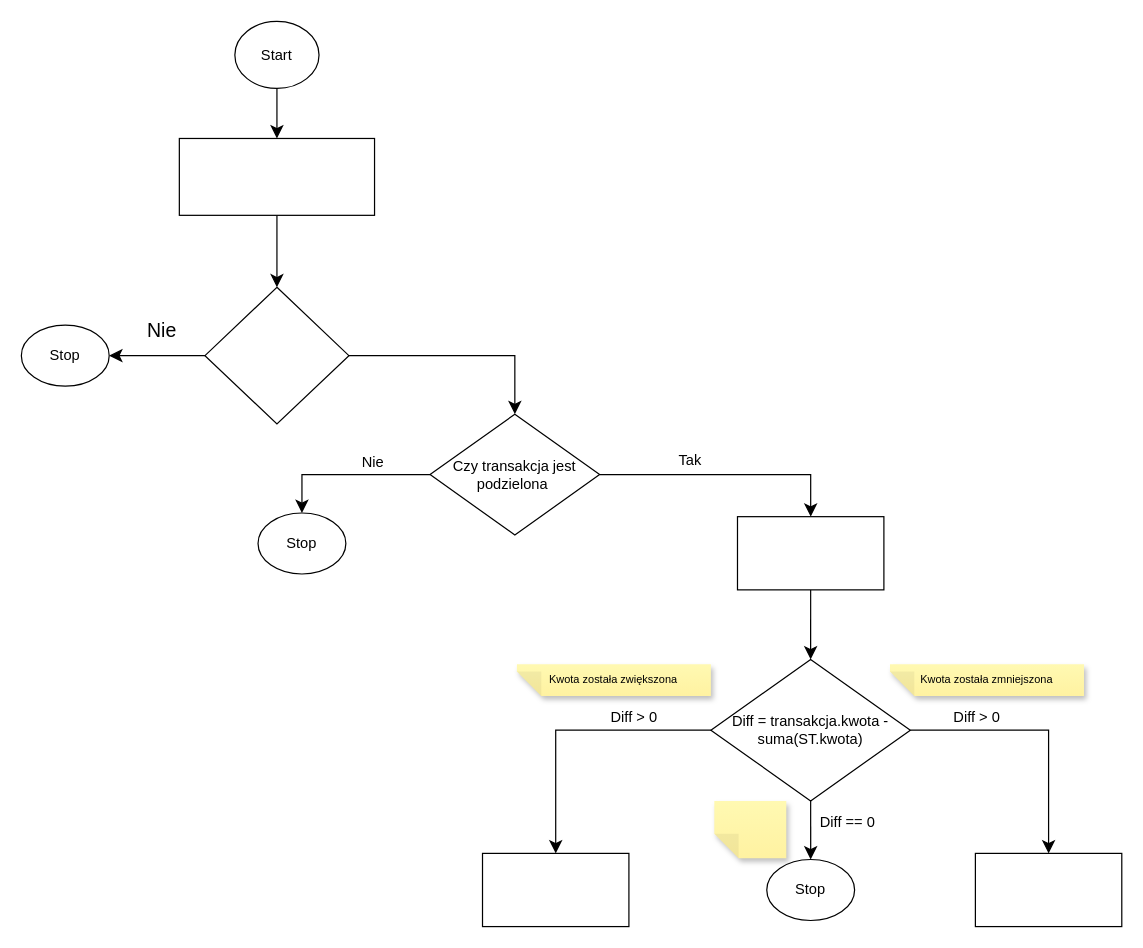
The diagram is 1143 pixels wide and 948 high, and some of its shapes have lost their labels. Here are the shapes that lost their labels. From the top down, the centre of each, then its label:
At point 276,176: "Zaktualizuj transakcje".
At point 276,355: "Czy kwota była zmieniana".
At point 810,552: "Pobierz subtransakcje".
At point 751,830: "Kwota bez zmian".
